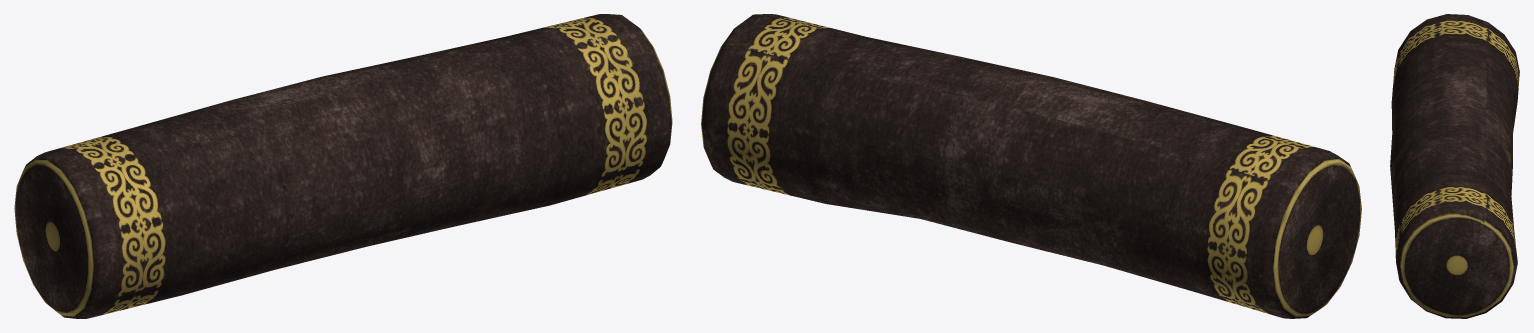
3 views of the same model, side by side, from view 1: azimuth 30°, elevation 25°; view 2: azimuth 150°, elevation 25°; view 3: azimuth 270°, elevation 25° (orthographic). The views are drawn at different scales.
Visible parts, largest first — view 1: Pillow_Throne_Long_01; view 2: Pillow_Throne_Long_01; view 3: Pillow_Throne_Long_01.
Boxes of the visible parts, bbox=[...] form: Pillow_Throne_Long_01: bbox=[14, 14, 672, 318]; Pillow_Throne_Long_01: bbox=[701, 14, 1361, 318]; Pillow_Throne_Long_01: bbox=[1390, 14, 1519, 318].
Size of the model in its own units: 113 by 30.2 by 30.56.
1 material, 1 textured.
